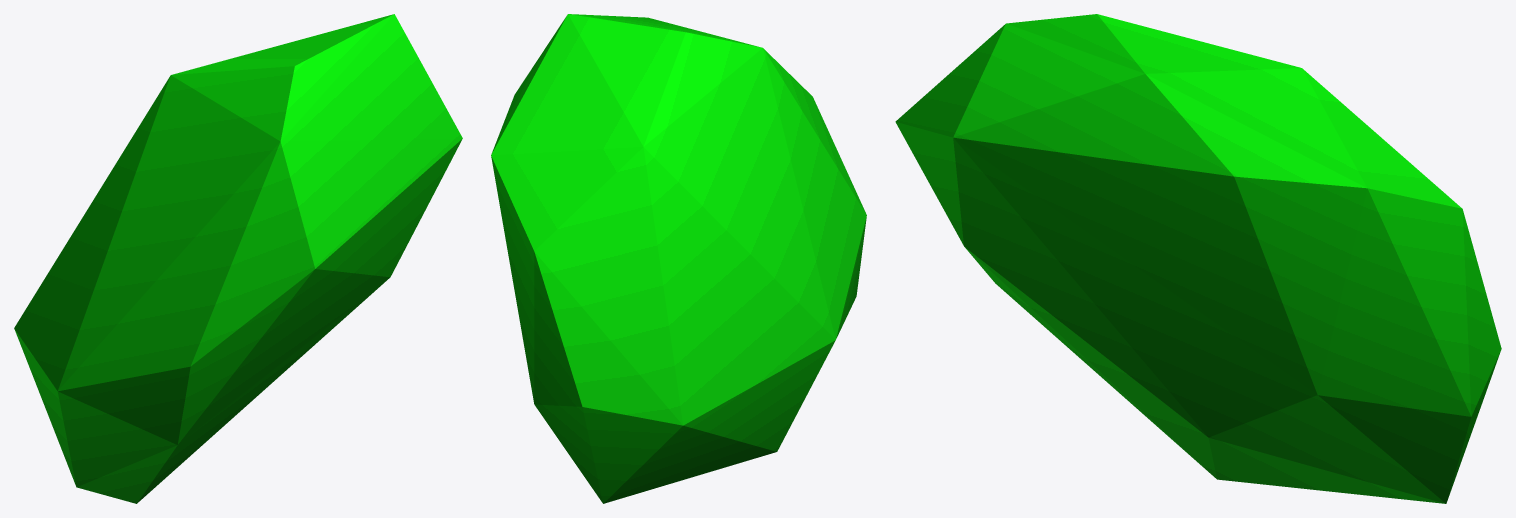
Rendered from Prefab_Foliage_Tree_Birch_Leaves_G.glb.
3 views of the same model, side by side, from view 1: azimuth 30°, elevation 25°; view 2: azimuth 150°, elevation 25°; view 3: azimuth 270°, elevation 25° (orthographic). The views are drawn at different scales.
Visible parts, largest first — view 1: BirchTree_B_Trunk.003; view 2: BirchTree_B_Trunk.003; view 3: BirchTree_B_Trunk.003.
Part boxes in pixels (x1,y1,x2,y2): BirchTree_B_Trunk.003: (14,14,462,503); BirchTree_B_Trunk.003: (491,14,866,503); BirchTree_B_Trunk.003: (895,14,1501,503).
Bounding box in the file's own units: 1.04 × 1.28 × 1.31.
Materials: 1 (1 with a texture image).
